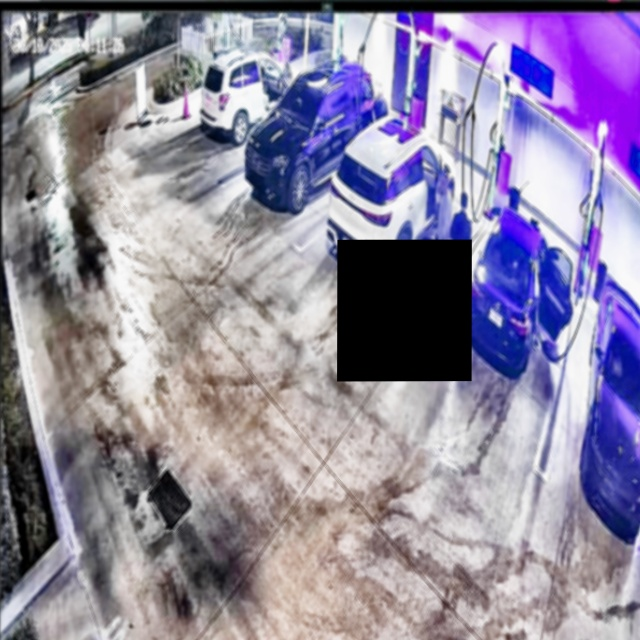Car: (329, 118, 454, 282), (244, 59, 373, 206), (466, 206, 569, 372)
